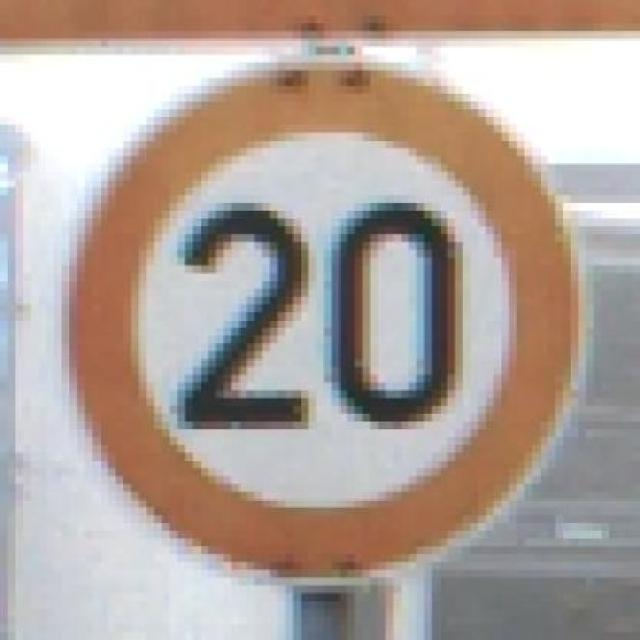forb_speed_over_20: (76, 64, 587, 575)
